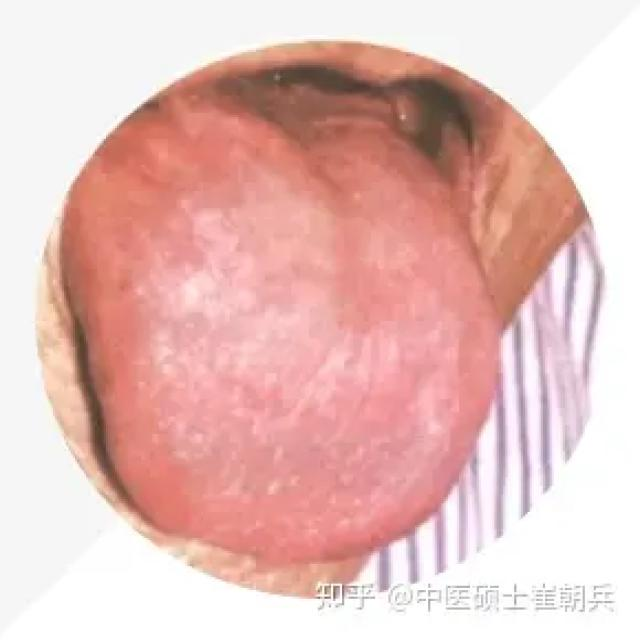tongue: (67, 116, 499, 553)
